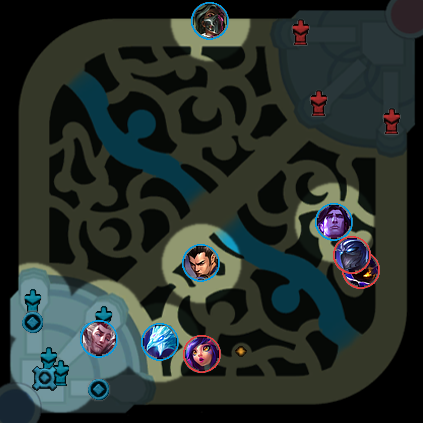Anivia: (141, 323, 179, 361)
Neeko: (183, 335, 221, 373)
Rakan: (80, 320, 118, 358)
Renata: (191, 2, 229, 40)
Shen: (333, 236, 371, 274)
Taric: (315, 203, 353, 241)
Veigar: (342, 251, 380, 289)
XinZhao: (182, 244, 220, 282)
